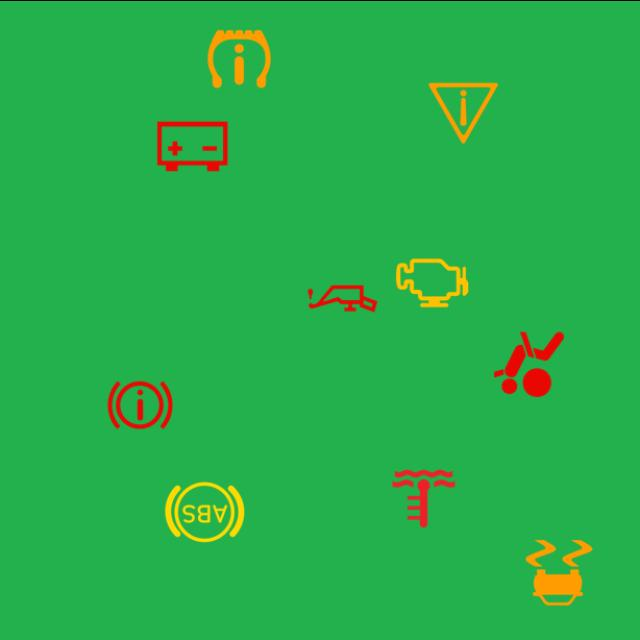Anti Lock Braking System: (162, 468, 248, 555)
Braking System Issue: (97, 361, 183, 447)
Charging System Issue: (150, 102, 236, 188)
Check Engine: (389, 239, 475, 325)
Electronic Stability Problem -ESP-: (516, 528, 602, 614)
Engine Overheating Warning Light: (381, 454, 466, 540)
Low Engine Oil Warning Light: (300, 254, 386, 340)
Low Tire Pressure Warning Light: (196, 15, 282, 101)
Master warning light: (421, 69, 506, 155)
SRS-Airbag: (486, 321, 572, 406)
